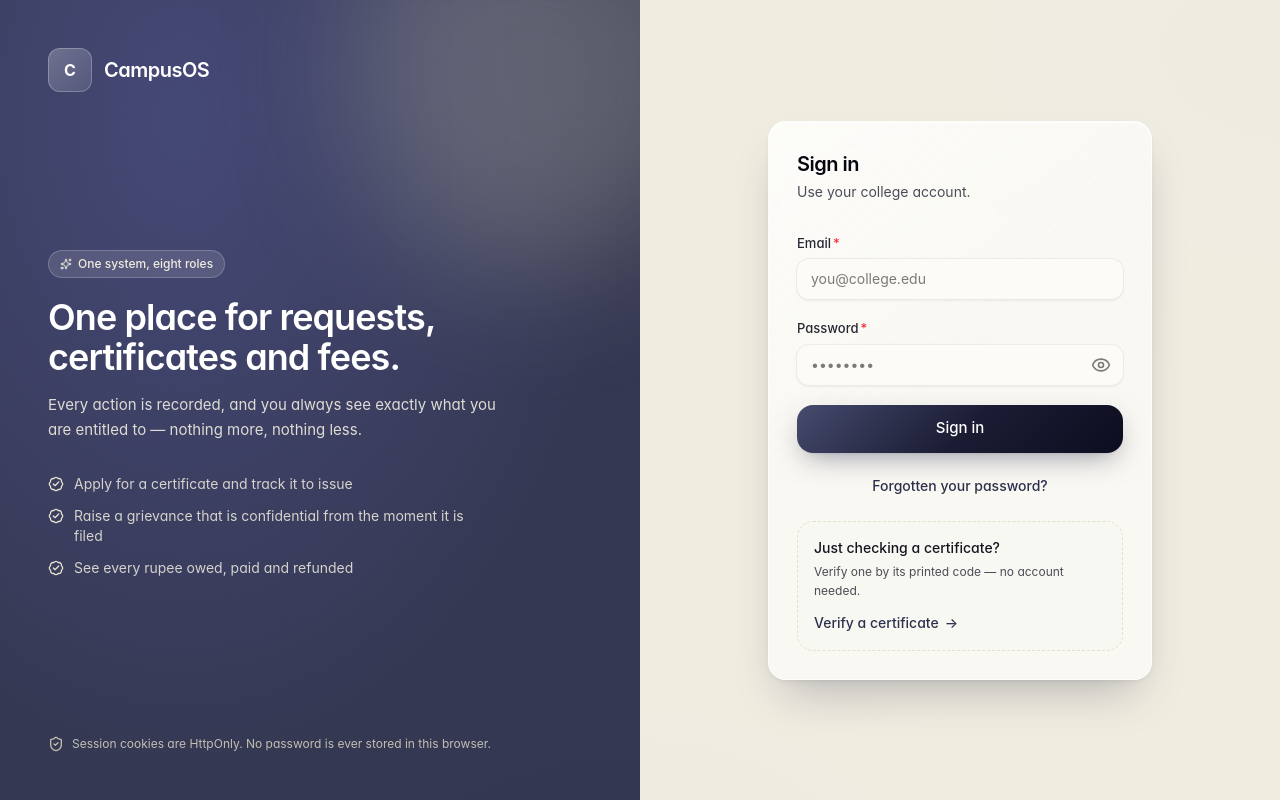
it: sign in › shows the server's refusal and stays on the form
Expected: the heading "Sign in" is shown, x1=797 y1=152 x2=859 y2=176
Type "wrong@campusos.local" into the field labelled "Email*" at (960, 279), box x1=797 y1=259 x2=1123 y2=299
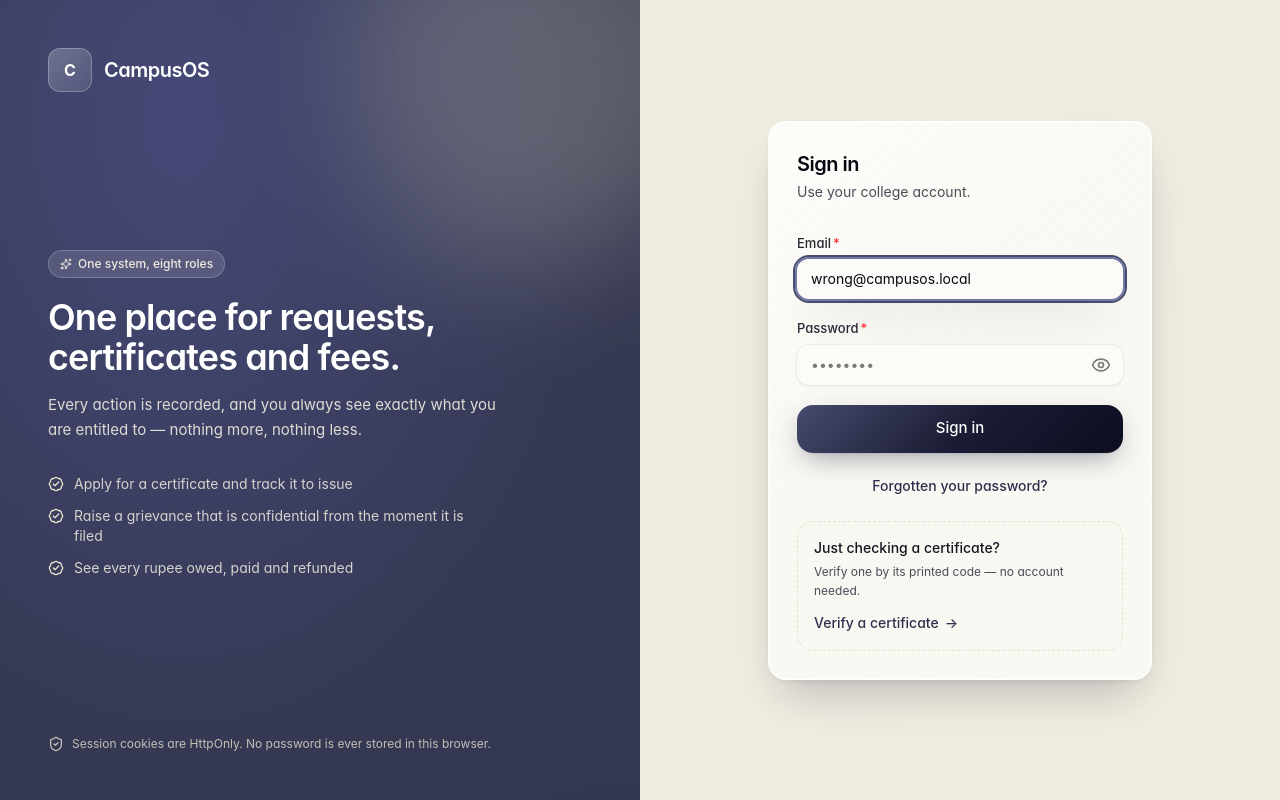
Type "wrong" into the password field with test id "password-input" at (960, 364), box x1=797 y1=344 x2=1123 y2=384
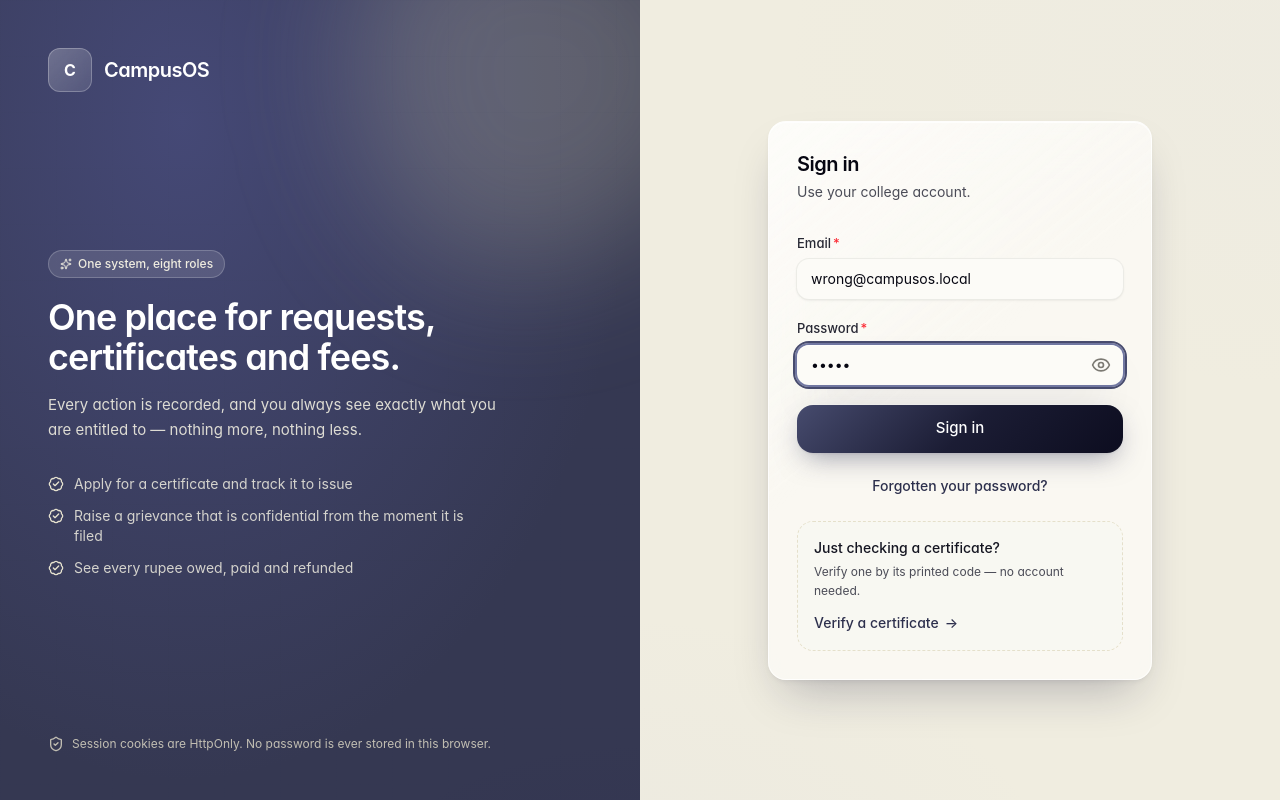
Click the button "Sign in" at (960, 428), box x1=797 y1=404 x2=1123 y2=452
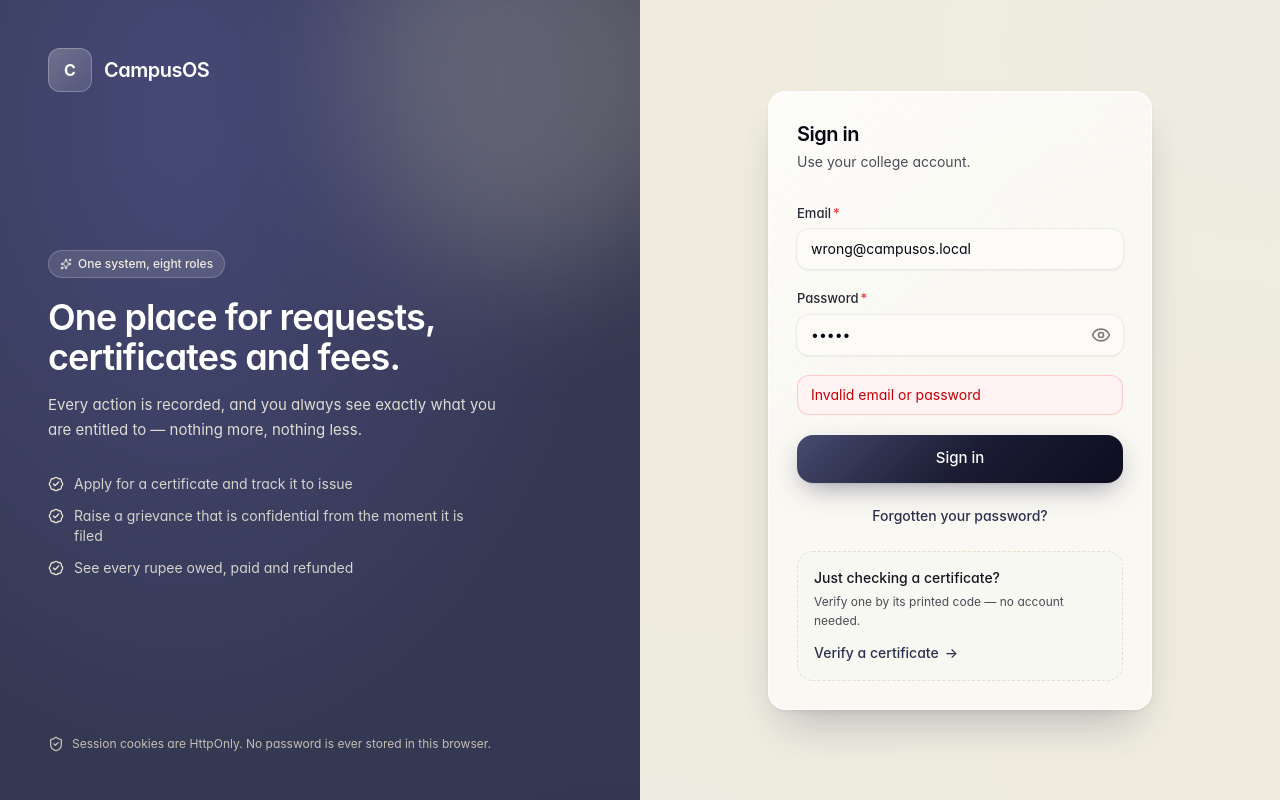
Expected: the button "Sign in" is shown, x1=797 y1=434 x2=1123 y2=482
Result: the message reads "Invalid email or password" at x1=811 y1=386 x2=981 y2=402
